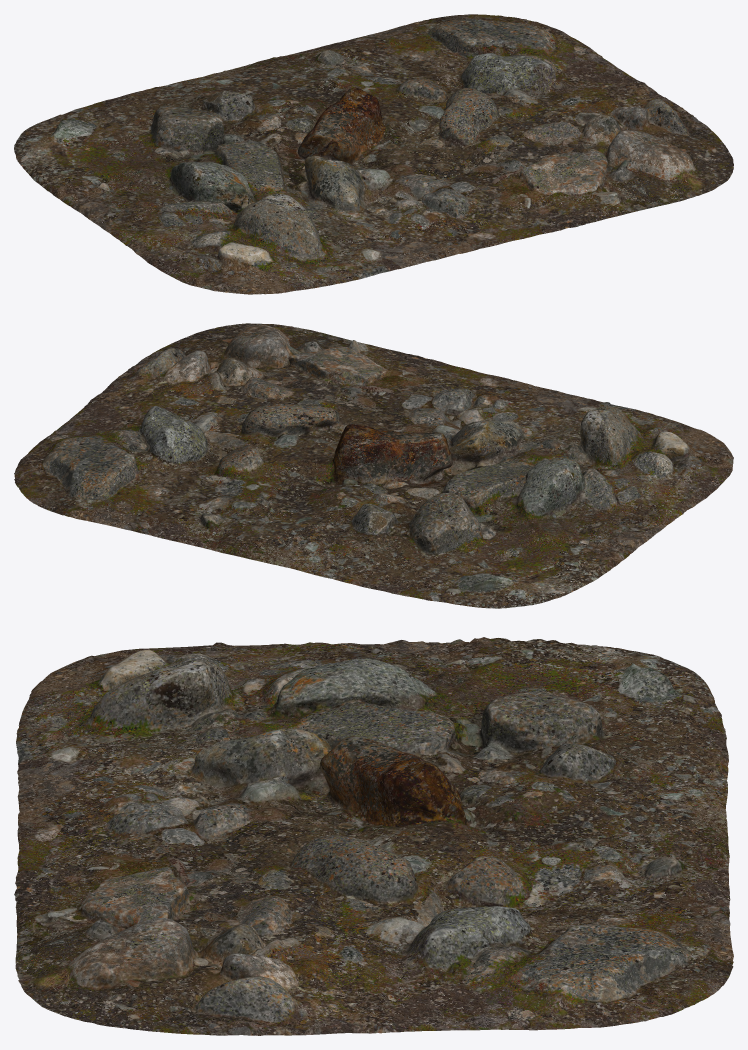
The model's file is ground.gltf.
3 views of the same model, one above another, from view 1: azimuth 30°, elevation 25°; view 2: azimuth 150°, elevation 25°; view 3: azimuth 270°, elevation 25° (orthographic). The views are drawn at different scales.
Visible parts, largest first — view 1: geo1; view 2: geo1; view 3: geo1.
Part boxes in pixels (bbox=[...]): geo1: bbox=[14, 14, 733, 294]; geo1: bbox=[14, 323, 733, 608]; geo1: bbox=[14, 637, 733, 1035].
Size of the model in its own units: 421 by 38.6 by 325.
1 material, 1 textured.
